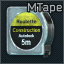Construction measuring tape: (0, 0, 64, 64)
